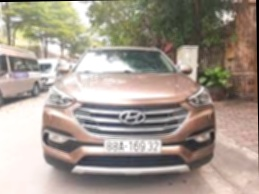Bien-so: (102, 137, 155, 152)
